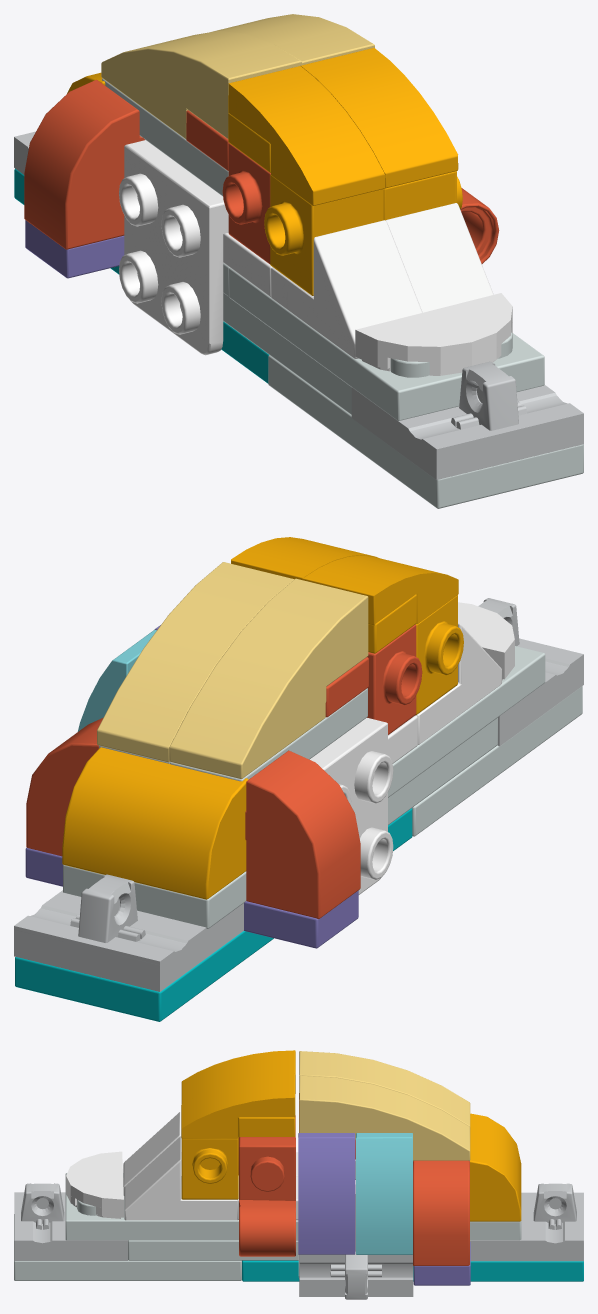
Rendered from Passo25.fbx.
3 renders of one model, top to bottom at view 1: azimuth 30°, elevation 25°; view 2: azimuth 150°, elevation 25°; view 3: azimuth 270°, elevation 25°, orthographic. The views are drawn at different scales.
Visible parts, largest first — view 1: Bracket__1x2__1_.008, Hinge_plate_2x2__1_.013, Brick_cuved_1x2x1__1_.009, Slope_curved_2x1_1.001, Slope_curved_3x1__1_.003, Slope_2x1_2__1_.010, Slope_curved_2x1__1__1.001, Plate_2x4__2_.012, Plate_2x4__1__1.012, Tile_round_1x2.017, Slope_2x1_2.010, Brick_special_1x1__1_.005 (+11 smaller); view 2: Slope_curved_3x1__1_.003, Brick_curved_2x1.011, Brick_cuved_1x2x1__1_.009, Slope_curved_3x1.007, Hinge_plate_2x2_1.002, Plate_2x6.015, Bracket__1x2__1_.008, Slope_curved_2x1_1.001, Plate_2x4__2_.012, Brick_cuved_1x2x1.009, Plate_2x4__1__1.012, Plate_1x4.014 (+13 smaller); view 3: Slope_curved_3x1.007, Slope_curved_2x1.003, Slope_curved_2x1__1_.003, Plate_special_1x2_hole, Brick_cuved_1x2x1.009, Hinge_plate_2x2_1.002, Slope_curved_2x1__1__1.001, Hinge_plate_2x2__1_.013, Hinge_plate_2x2.015, Brick_curved_2x1.011, Plate_2x4__1__1.012, Slope_2x1_2.010 (+11 smaller).
Part boxes in pixels (x1,y1,x2,y2): Bracket__1x2__1_.008: [119, 140, 228, 355]; Hinge_plate_2x2__1_.013: [351, 361, 583, 479]; Brick_cuved_1x2x1__1_.009: [24, 79, 144, 249]; Slope_curved_2x1_1.001: [228, 66, 385, 205]; Slope_curved_3x1__1_.003: [101, 31, 301, 138]; Slope_2x1_2__1_.010: [271, 220, 422, 358]; Slope_curved_2x1__1__1.001: [301, 48, 458, 188]; Plate_2x4__2_.012: [229, 268, 544, 420]; Plate_2x4__1__1.012: [268, 355, 583, 508]; Tile_round_1x2.017: [355, 293, 512, 375]; Slope_2x1_2.010: [386, 203, 493, 312]; Brick_special_1x1__1_.005: [264, 174, 383, 295]; Slope_curved_3x1__1_.003: [169, 578, 368, 779]; Brick_curved_2x1.011: [62, 747, 248, 899]; Brick_cuved_1x2x1__1_.009: [245, 750, 360, 919]; Slope_curved_3x1.007: [97, 562, 294, 762]; Hinge_plate_2x2_1.002: [14, 874, 243, 991]; Plate_2x6.015: [15, 808, 412, 1021]; Bracket__1x2__1_.008: [309, 718, 393, 894]; Slope_curved_2x1_1.001: [302, 555, 458, 625]; Plate_2x4__2_.012: [388, 646, 545, 797]; Brick_cuved_1x2x1.009: [26, 718, 102, 856]; Plate_2x4__1__1.012: [412, 686, 582, 836]; Plate_1x4.014: [25, 847, 358, 948]; Slope_curved_3x1.007: [299, 1075, 470, 1160]; Slope_curved_2x1.003: [298, 1133, 355, 1254]; Slope_curved_2x1__1_.003: [356, 1133, 412, 1254]; Plate_special_1x2_hole: [239, 1137, 295, 1256]; Brick_cuved_1x2x1.009: [413, 1160, 469, 1265]; Hinge_plate_2x2_1.002: [470, 1183, 583, 1261]; Slope_curved_2x1__1__1.001: [181, 1073, 295, 1138]; Hinge_plate_2x2__1_.013: [14, 1183, 127, 1260]; Hinge_plate_2x2.015: [299, 1184, 413, 1299]; Brick_curved_2x1.011: [470, 1113, 521, 1221]; Plate_2x4__1__1.012: [14, 1214, 241, 1280]; Slope_2x1_2.010: [124, 1136, 237, 1220].
Bounding box in the file's own units: 0.3333 × 0.2876 × 0.8002.
